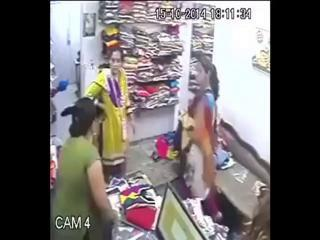Normal: (50, 97, 118, 239), (83, 48, 135, 182)
